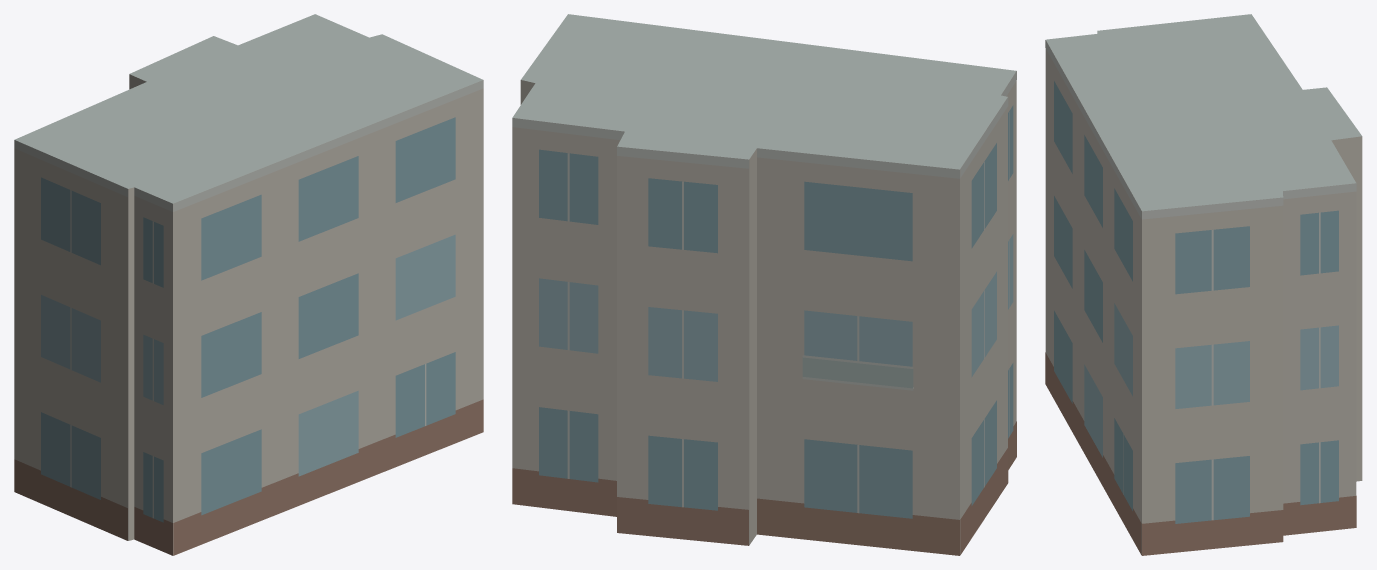
The model's file is survey-upis-32802169.glb.
3 views of the same model, side by side, from view 1: azimuth 30°, elevation 25°; view 2: azimuth 150°, elevation 25°; view 3: azimuth 270°, elevation 25° (orthographic). The views are drawn at different scales.
Parts seen in each view (by area): view 1: survey-upis-32802169.tmp; view 2: survey-upis-32802169.tmp; view 3: survey-upis-32802169.tmp.
Part boxes in pixels (x1,y1,x2,y2): survey-upis-32802169.tmp: (14,14,483,555); survey-upis-32802169.tmp: (512,14,1016,555); survey-upis-32802169.tmp: (1045,14,1362,555).
Size of the model in its own units: 12.54 by 10.2 by 8.51.
